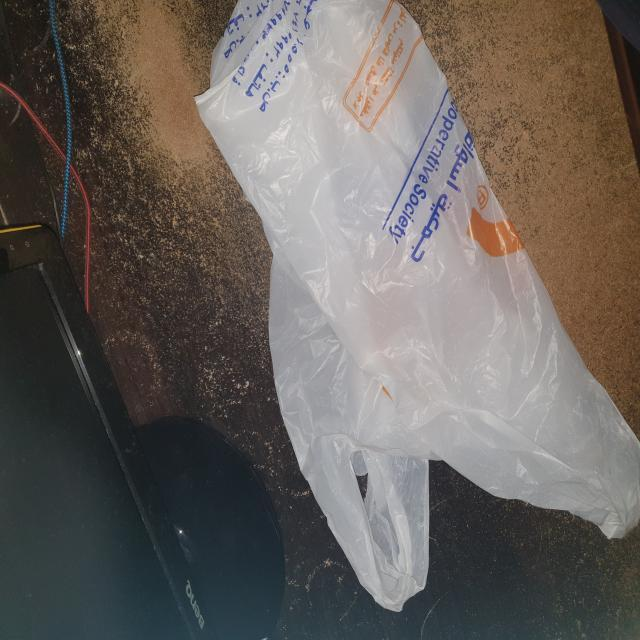Plastic_Bag: (182, 0, 640, 623)
